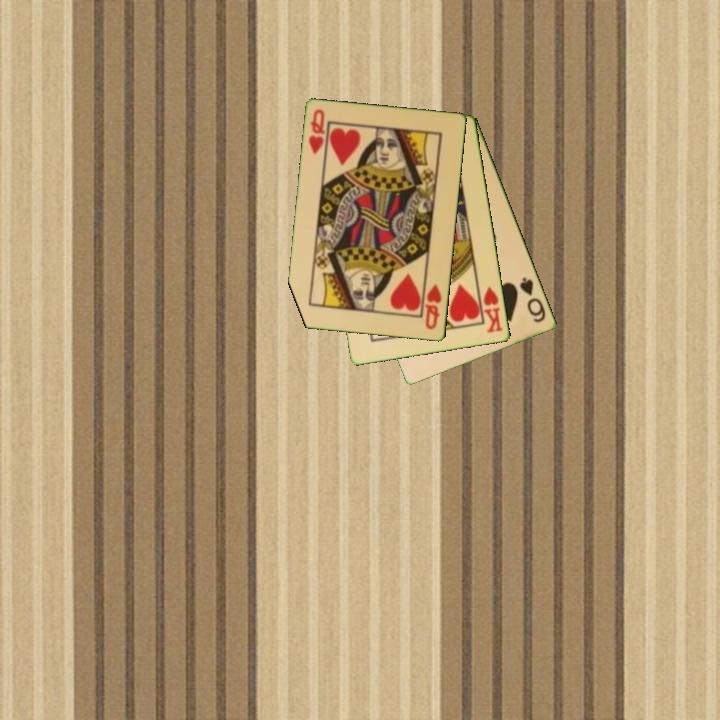6s: (516, 274, 549, 326)
Kh: (475, 282, 506, 336)
Qh: (421, 281, 445, 333), (305, 106, 328, 158)
